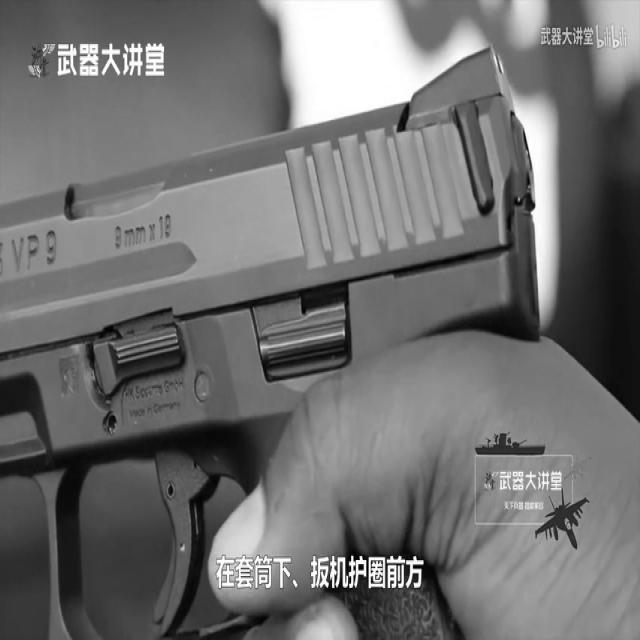Hand-Gun: (15, 51, 548, 640)
